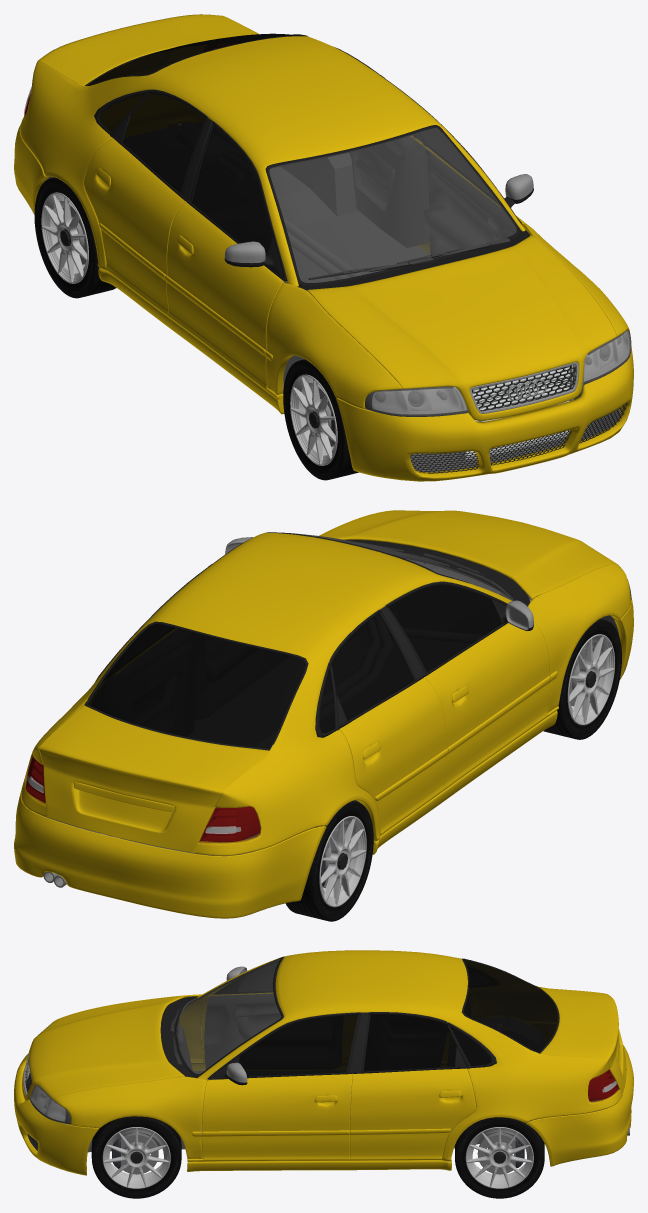
Rendered from audi-a4-b5.glb.
3 views of the same model, one above another, from view 1: azimuth 30°, elevation 25°; view 2: azimuth 150°, elevation 25°; view 3: azimuth 270°, elevation 25° (orthographic). The views are drawn at different scales.
Visible parts, largest first — view 1: a4-b5-body_1, hood_62, windshield_48, front-bumper_18, front-door_23, rough-bottom_12, front-fender_13, rear-door_92, side-glass.001_25, door-rear-panel-internal_67, trunk_109, door-front-panel-internal_66 (+26 smaller); view 2: a4-b5-body_1, trunk_109, rear-bumper_86, rear-glass_50, front-door_23, hood_62, rear-door_92, front-fender_13, side-glass.001_25, side-glass.002_94, tire-low-v1-02.001_105, rotiform-wheel.001_103 (+16 smaller); view 3: a4-b5-body_1, front-door_23, hood_62, rear-door_92, front-fender_13, windshield_48, side-glass.001_25, rear-glass_50, trunk_109, rear-bumper_86, side-glass.002_94, front-bumper_18 (+23 smaller).
Boxes of the visible parts, x1,y1,x2,y2 form: a4-b5-body_1: [20, 22, 525, 286]; hood_62: [307, 235, 616, 420]; windshield_48: [269, 127, 516, 282]; front-bumper_18: [336, 346, 633, 481]; front-door_23: [166, 143, 531, 390]; rough-bottom_12: [46, 153, 620, 472]; front-fender_13: [266, 224, 630, 408]; rear-door_92: [83, 136, 421, 315]; side-glass.001_25: [192, 126, 521, 281]; door-rear-panel-internal_67: [349, 136, 429, 247]; trunk_109: [38, 14, 256, 85]; door-front-panel-internal_66: [280, 150, 516, 283]; a4-b5-body_1: [21, 532, 511, 855]; trunk_109: [39, 705, 268, 853]; rear-bumper_86: [14, 791, 326, 918]; rear-glass_50: [87, 624, 305, 748]; front-door_23: [424, 621, 550, 789]; hood_62: [320, 510, 616, 598]; rear-door_92: [340, 678, 446, 835]; front-fender_13: [319, 510, 630, 712]; side-glass.001_25: [388, 585, 501, 672]; side-glass.002_94: [332, 613, 414, 720]; tire-low-v1-02.001_105: [285, 801, 373, 921]; rotiform-wheel.001_103: [319, 816, 366, 907]; a4-b5-body_1: [197, 950, 622, 1161]; front-door_23: [202, 993, 352, 1161]; hood_62: [22, 996, 184, 1100]; rear-door_92: [350, 1068, 476, 1160]; front-fender_13: [53, 994, 207, 1158]; windshield_48: [177, 958, 281, 1073]; side-glass.001_25: [207, 961, 357, 1079]; rear-glass_50: [463, 960, 557, 1052]; trunk_109: [539, 988, 626, 1095]; rear-bumper_86: [526, 1045, 633, 1166]; side-glass.002_94: [363, 1014, 456, 1071]; front-bumper_18: [14, 1054, 98, 1175].
Bounding box in the file's own units: 2.07 × 1.55 × 4.98.
Materials: 29 (1 with a texture image).
